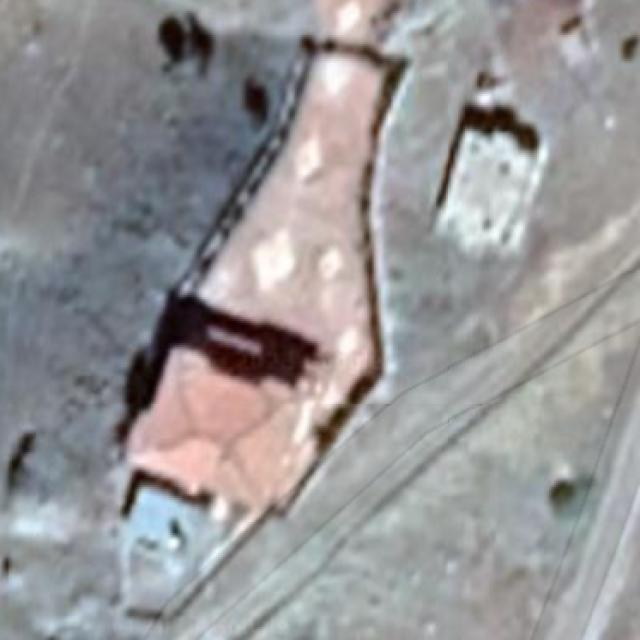Batiment: (119, 3, 405, 601), (436, 103, 548, 257)
